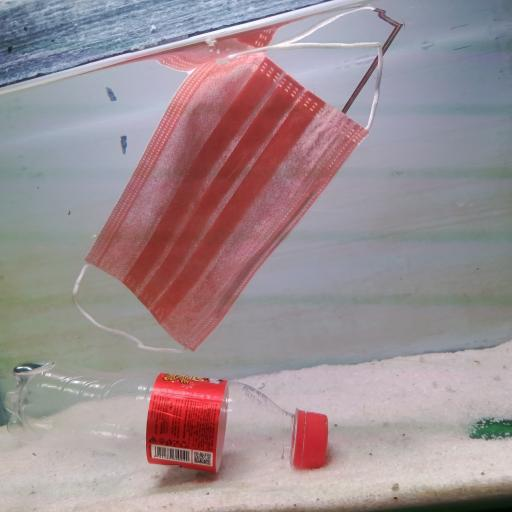bottle_cap: (294, 408, 330, 468)
mask: (74, 57, 388, 357)
plastic_bottle: (7, 355, 339, 474)
